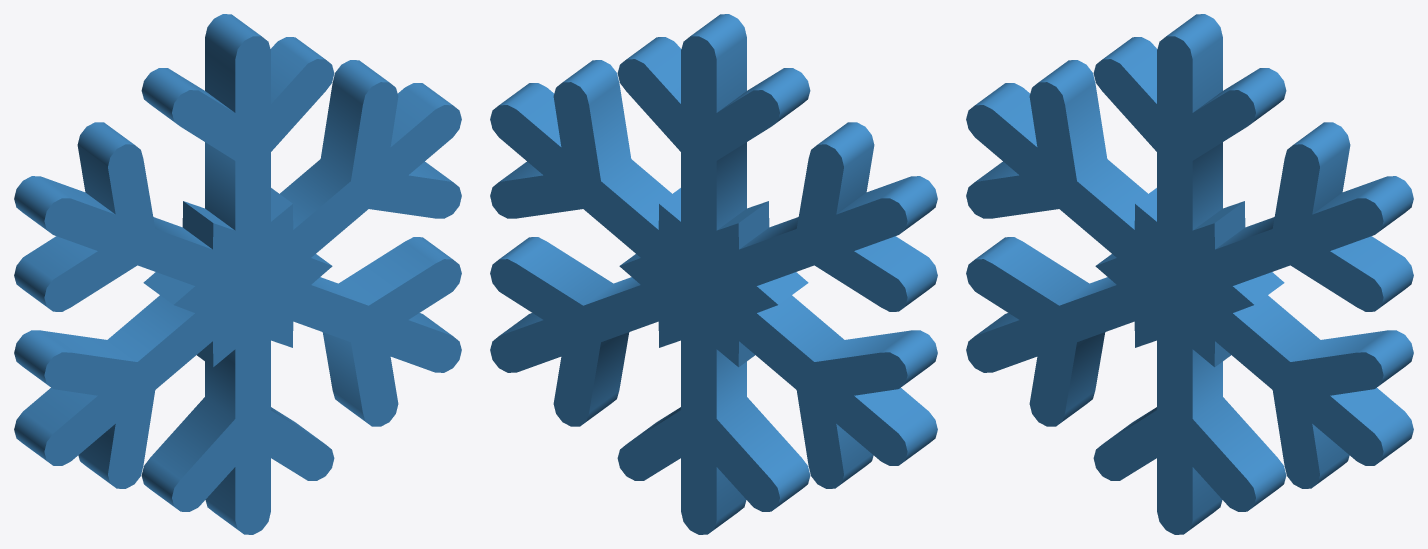
File: item_ice.fbx
3 views of the same model, side by side, from view 1: azimuth 30°, elevation 25°; view 2: azimuth 150°, elevation 25°; view 3: azimuth 330°, elevation 25° (orthographic).
Visible parts, largest first — view 1: item_ice; view 2: item_ice; view 3: item_ice.
Part boxes in pixels (<box>): item_ice: <box>14,14,461,534</box>; item_ice: <box>490,14,937,534</box>; item_ice: <box>966,14,1413,534</box>.
Size of the model in its own units: 1.59 by 1.82 by 0.2.
